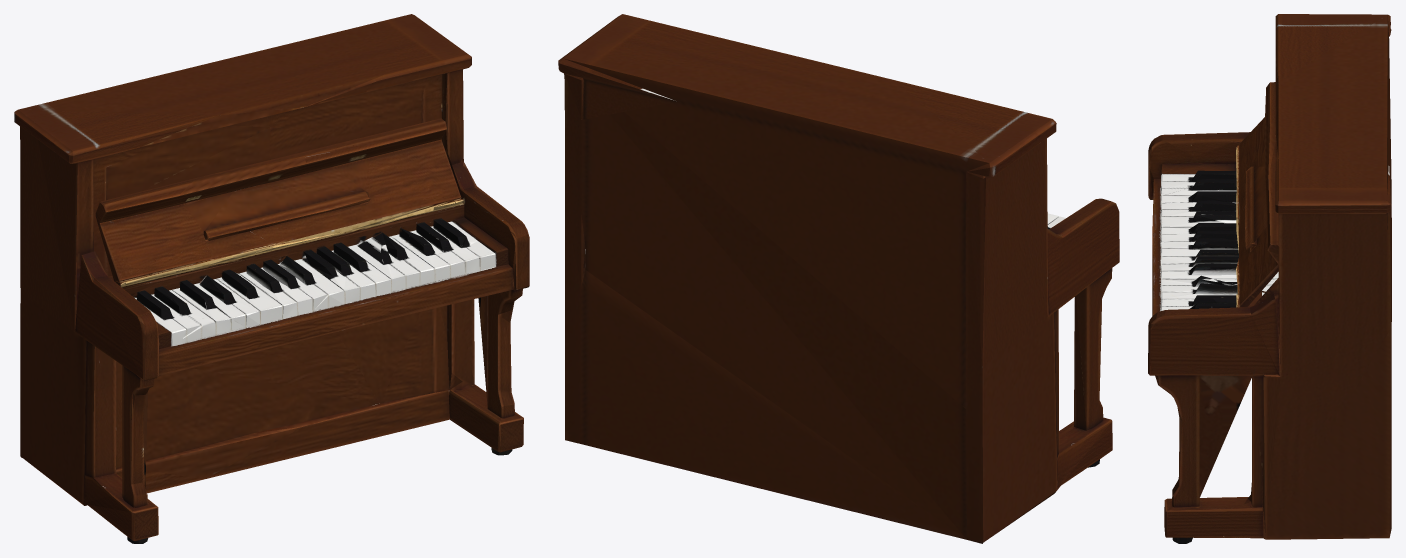
Rendered from piano.glb.
The picture shows the model from 3 angles, left to right: view 1: azimuth 30°, elevation 25°; view 2: azimuth 150°, elevation 25°; view 3: azimuth 270°, elevation 25°; orthographic projection. The views are drawn at different scales.
Parts seen in each view (by area): view 1: output_unwrapped; view 2: output_unwrapped; view 3: output_unwrapped.
Boxes of the visible parts, x1,y1,x2,y2 form: output_unwrapped: [14, 14, 529, 543]; output_unwrapped: [558, 14, 1119, 543]; output_unwrapped: [1148, 14, 1391, 543].
Bounding box in the file's own units: 1.9 × 1.61 × 1.03.
Materials: 1 (1 with a texture image).
